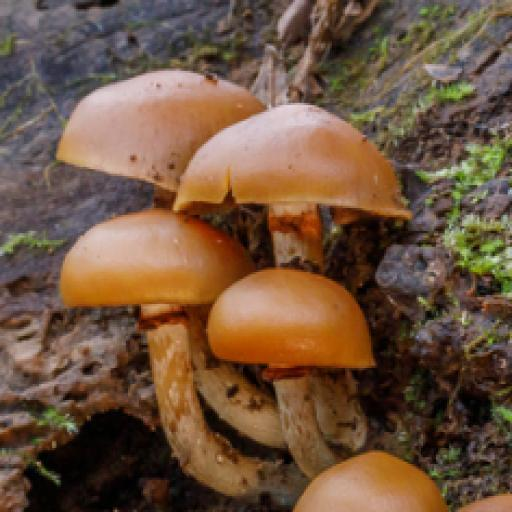mushroom: (57, 61, 427, 448)
